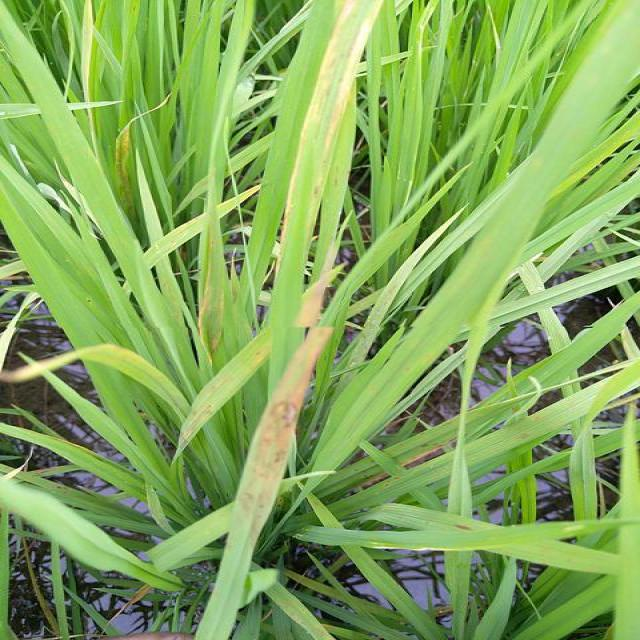Leaf Streak: (193, 271, 340, 639), (297, 0, 384, 202)
